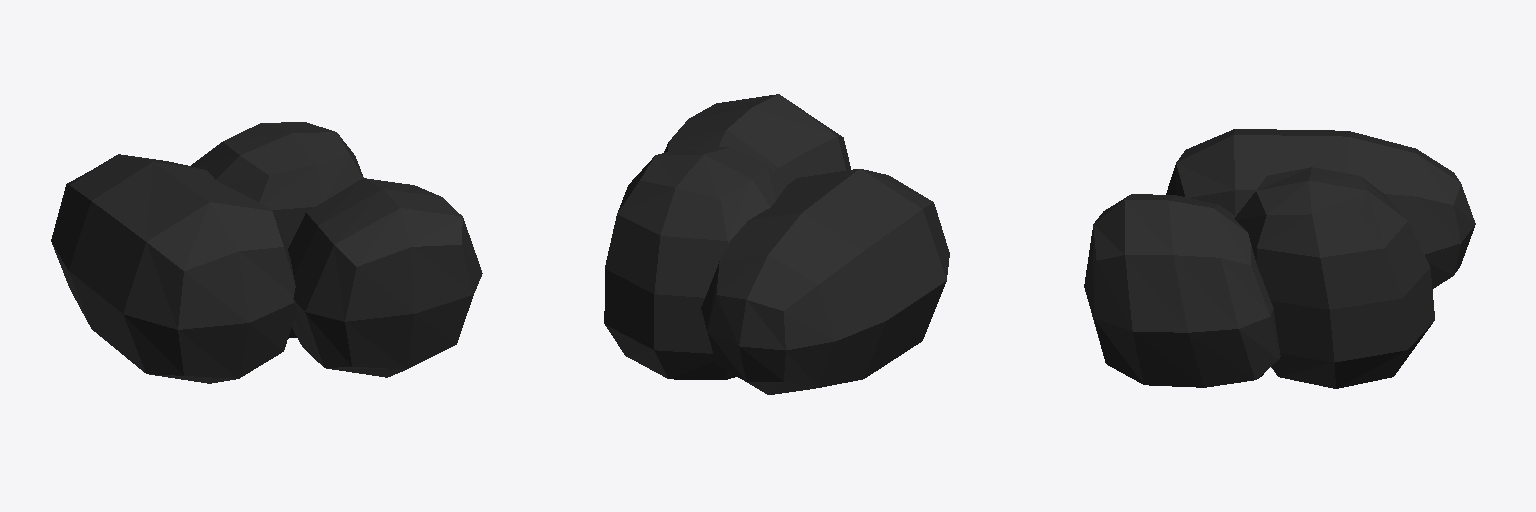
File: rock1.obj
3 renders of one model, left to right at view 1: azimuth 30°, elevation 25°; view 2: azimuth 150°, elevation 25°; view 3: azimuth 270°, elevation 25°, orthographic.
Parts seen in each view (by area): view 1: rock1; view 2: rock1; view 3: rock1.
Boxes of the visible parts, x1=… form: rock1: x1=51, y1=122, x2=482, y2=383; rock1: x1=604, y1=94, x2=949, y2=394; rock1: x1=1084, y1=129, x2=1475, y2=388.
Bounding box in the file's own units: 1.09 × 0.6639 × 1.18.